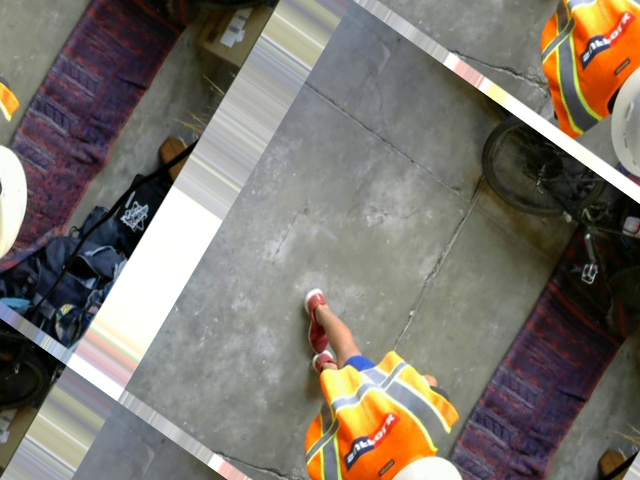three: (400, 475, 446, 479)
